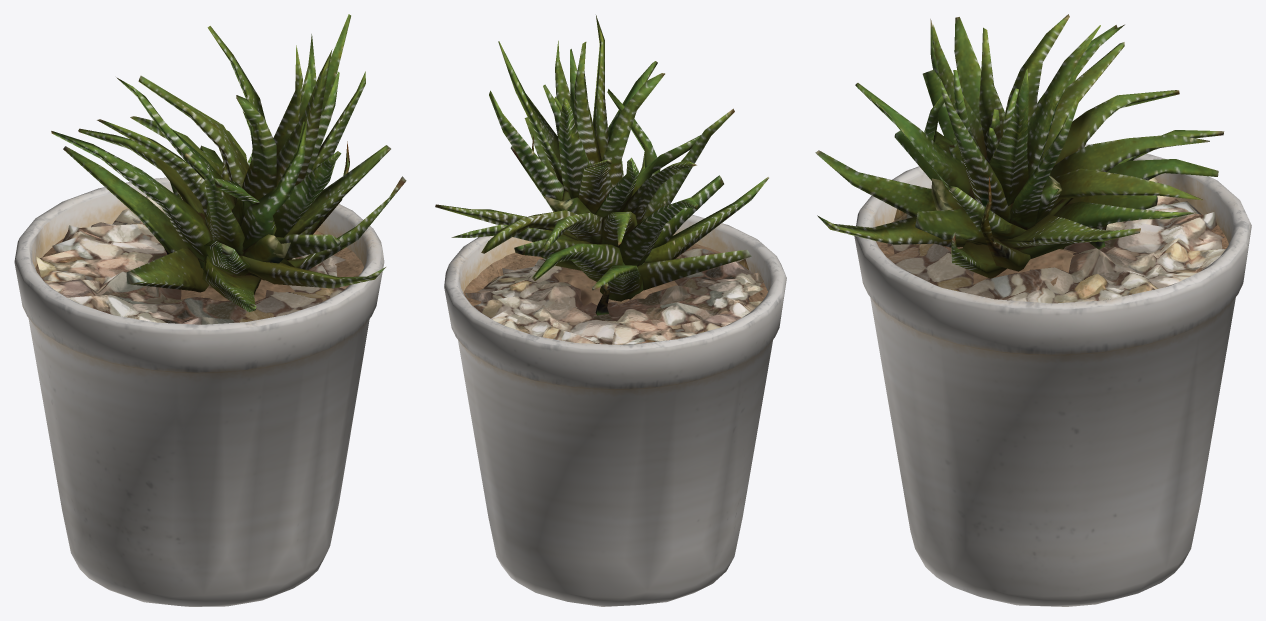
Rendered from potted_plant_04_1k_LOD1.fbx.
The picture shows the model from 3 angles, left to right: view 1: azimuth 30°, elevation 25°; view 2: azimuth 150°, elevation 25°; view 3: azimuth 270°, elevation 25°; orthographic projection. The views are drawn at different scales.
Parts seen in each view (by area): view 1: potted_plant_04_pot, potted_plant_04_plant, potted_plant_04_ground, potted_plant_04_dirt; view 2: potted_plant_04_pot, potted_plant_04_plant, potted_plant_04_ground, potted_plant_04_dirt; view 3: potted_plant_04_pot, potted_plant_04_plant, potted_plant_04_ground, potted_plant_04_dirt.
Part boxes in pixels (bbox=[...]): potted_plant_04_pot: bbox=[14, 177, 384, 606]; potted_plant_04_plant: bbox=[51, 14, 406, 312]; potted_plant_04_ground: bbox=[36, 196, 346, 324]; potted_plant_04_dirt: bbox=[35, 230, 363, 301]; potted_plant_04_pot: bbox=[444, 215, 786, 606]; potted_plant_04_plant: bbox=[435, 15, 768, 315]; potted_plant_04_ground: bbox=[465, 248, 763, 344]; potted_plant_04_dirt: bbox=[463, 243, 767, 305]; potted_plant_04_pot: bbox=[854, 144, 1251, 606]; potted_plant_04_plant: bbox=[815, 14, 1224, 278]; potted_plant_04_ground: bbox=[887, 177, 1225, 303]; potted_plant_04_dirt: bbox=[876, 214, 1228, 285].
Bounding box in the file's own units: 16.8 × 26.71 × 18.46.
